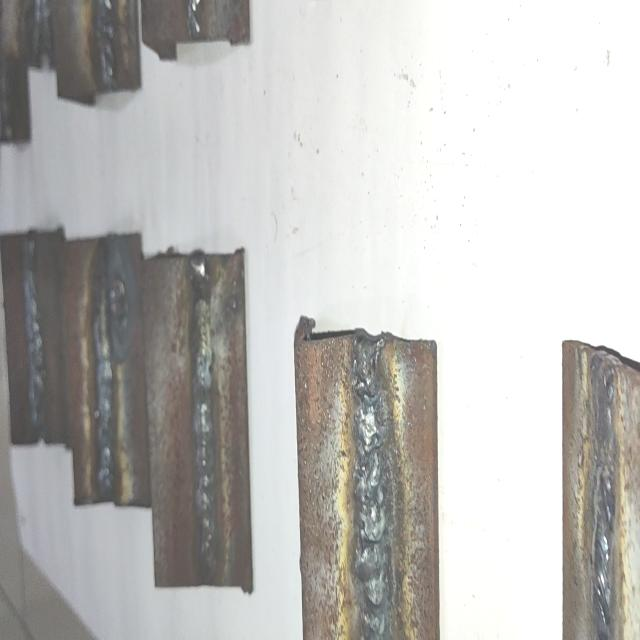Bad Weld: (354, 343, 391, 640), (96, 249, 110, 494)
Defect: (348, 352, 398, 637), (91, 266, 134, 346), (93, 0, 115, 81)
Good Weld: (4, 234, 67, 441), (189, 262, 215, 578), (592, 363, 613, 639), (21, 249, 43, 431)
